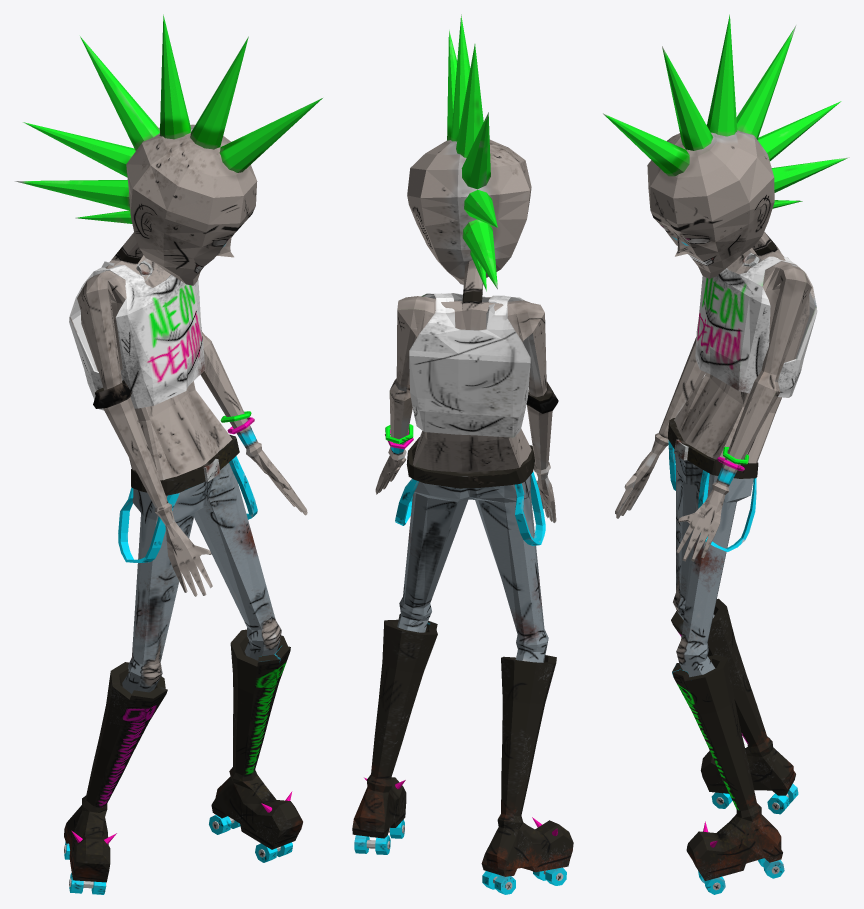
The model's file is punkAnimation_000012.obj.
The picture shows the model from 3 angles, left to right: view 1: azimuth 30°, elevation 25°; view 2: azimuth 150°, elevation 25°; view 3: azimuth 270°, elevation 25°; orthographic projection. The views are drawn at different scales.
Visible parts, largest first — view 1: Cube.004_Cube.003; view 2: Cube.004_Cube.003; view 3: Cube.004_Cube.003.
Boxes of the visible parts, bbox=[...] form: Cube.004_Cube.003: bbox=[14, 14, 322, 894]; Cube.004_Cube.003: bbox=[352, 14, 573, 894]; Cube.004_Cube.003: bbox=[603, 14, 849, 894].
Bounding box in the file's own units: 1.95 × 7.38 × 2.
